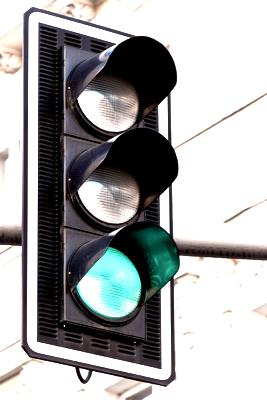International Road Signal Light: (21, 11, 177, 378)
